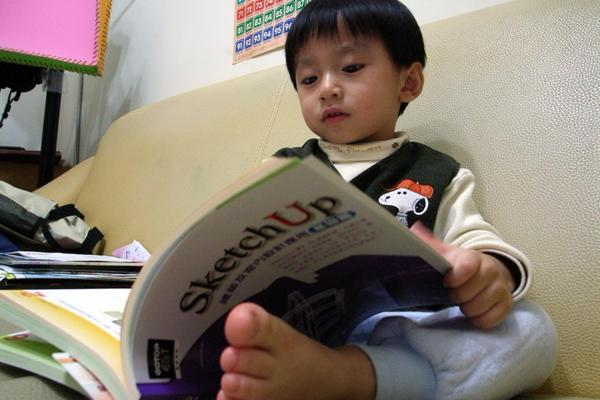person: (215, 3, 560, 400)
